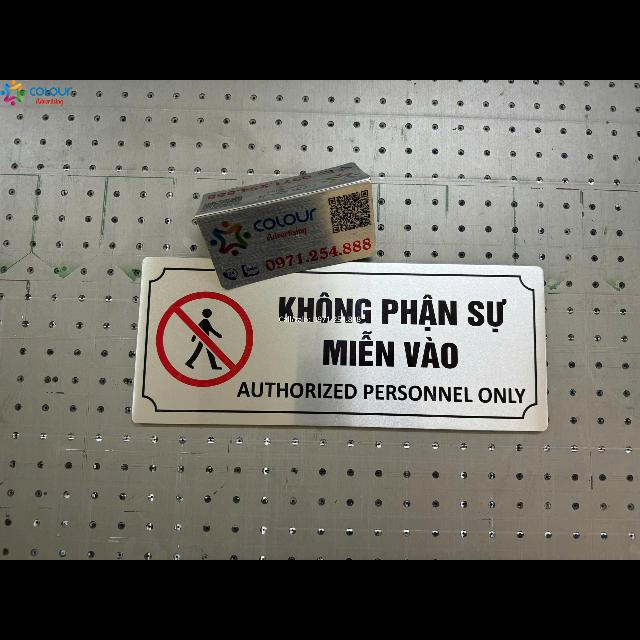khong phan su mien vao: (132, 257, 547, 431)
